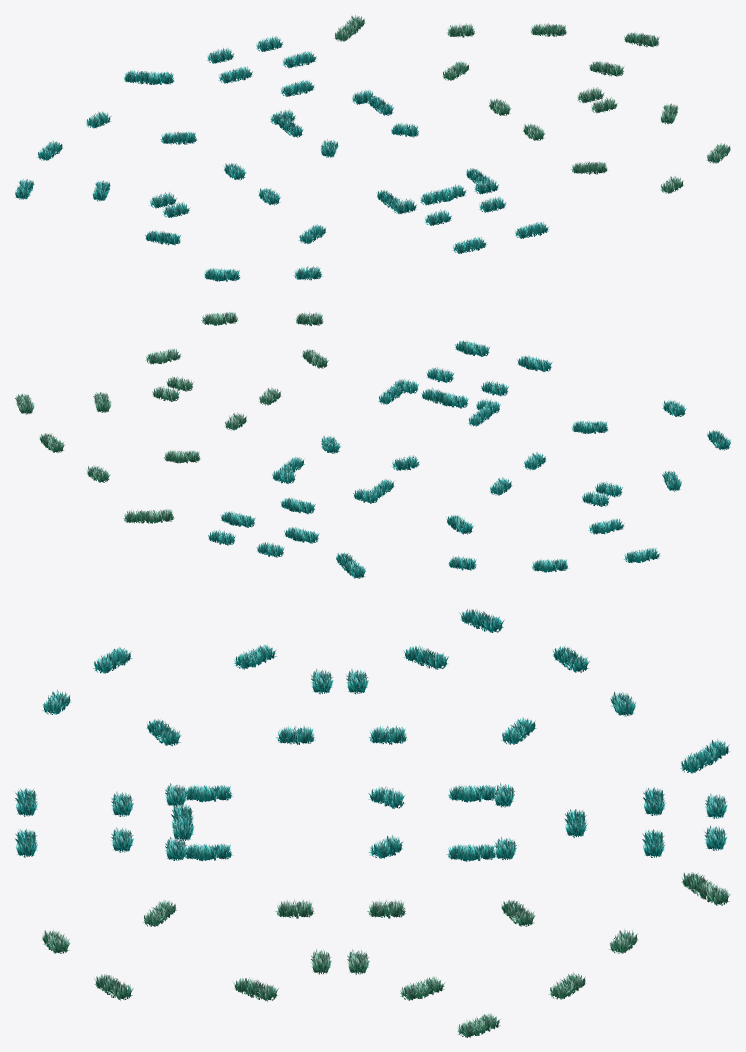
The model's file is pref_SightBlockerGrasses_winter_beta_01_lv2.fbx.
3 views of the same model, one above another, from view 1: azimuth 30°, elevation 25°; view 2: azimuth 150°, elevation 25°; view 3: azimuth 270°, elevation 25° (orthographic). The views are drawn at different scales.
Parts seen in each view (by area): view 1: pref_sm_beach_techgrass_alpha_01_lv2 (×2), pref_sm_beach_techgrass_alpha_yellow01_lv2; view 2: pref_sm_beach_techgrass_alpha_01_lv2 (×2), pref_sm_beach_techgrass_alpha_yellow01_lv2; view 3: pref_sm_beach_techgrass_alpha_03_lv2 (×4), pref_sm_beach_techgrass_alpha_01_lv2 (×2), pref_sm_beach_techgrass_alpha_yellow01_lv2.
Part boxes in pixels (x1,y1,x2,y2): pref_sm_beach_techgrass_alpha_01_lv2 (×2): (123,69,466,205); pref_sm_beach_techgrass_alpha_yellow01_lv2: (334,15,365,41); pref_sm_beach_techgrass_alpha_01_lv2 (×2): (336,387,469,578); pref_sm_beach_techgrass_alpha_yellow01_lv2: (123,509,175,523); pref_sm_beach_techgrass_alpha_03_lv2 (×4): (184,783,496,861); pref_sm_beach_techgrass_alpha_01_lv2 (×2): (171,739,730,841); pref_sm_beach_techgrass_alpha_yellow01_lv2: (681,872,730,905).
Size of the model in its own units: 116 by 2.15 by 83.25.
